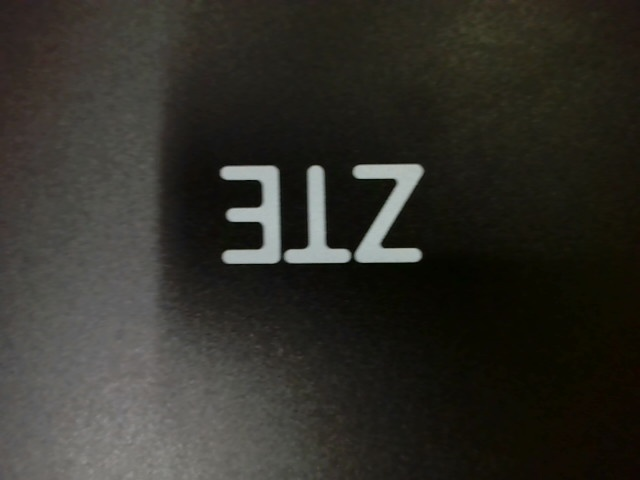AN_ZTE: (207, 150, 426, 268)
